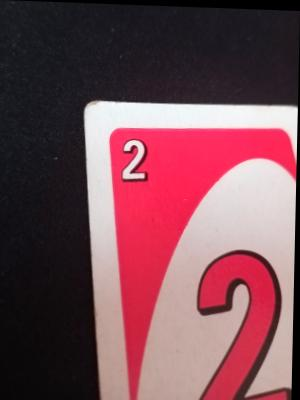num_2: (189, 239, 296, 400)
